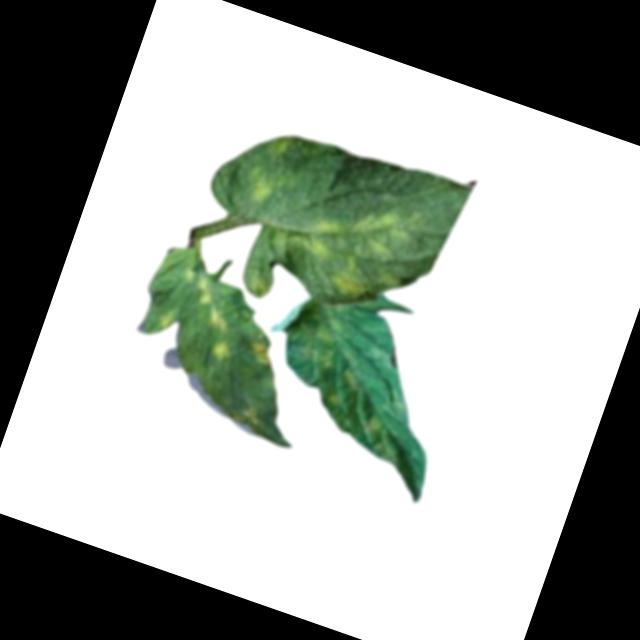Leaf_Mold: (282, 182, 422, 310), (280, 288, 356, 371), (314, 364, 393, 439), (238, 129, 306, 213), (178, 268, 219, 307), (242, 336, 273, 367), (229, 405, 260, 432), (202, 305, 230, 333), (208, 336, 234, 365), (154, 305, 178, 333)
